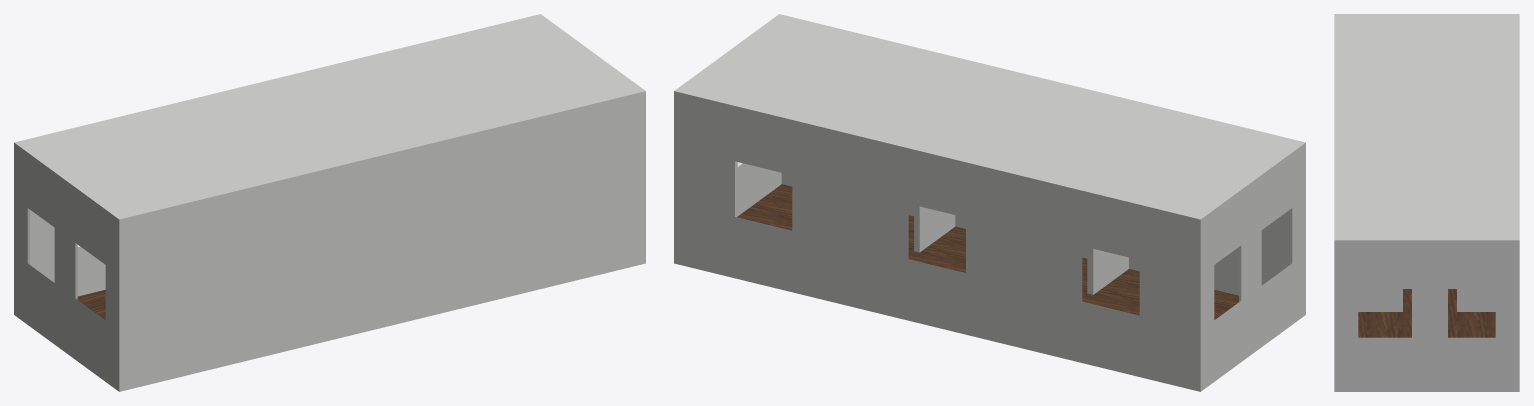
Rendered from Room.gltf.
3 views of the same model, side by side, from view 1: azimuth 30°, elevation 25°; view 2: azimuth 150°, elevation 25°; view 3: azimuth 270°, elevation 25° (orthographic). The views are drawn at different scales.
Parts seen in each view (by area): view 1: Body1 2, Body1 3; view 2: Body1 2, Body1, Body1 3; view 3: Body1 2, Body1, Body1 3.
Part boxes in pixels (x1=…): Body1 2: x1=14, y1=14, x2=645, y2=391; Body1 3: x1=30, y1=210, x2=105, y2=296; Body1 2: x1=674, y1=14, x2=1305, y2=391; Body1: x1=737, y1=184, x2=1238, y2=319; Body1 3: x1=735, y1=161, x2=1128, y2=294; Body1 2: x1=1334, y1=14, x2=1519, y2=391; Body1: x1=1358, y1=289, x2=1495, y2=337; Body1 3: x1=1358, y1=289, x2=1495, y2=311.
Size of what is drawn, in the model's own units: 89.5 by 28 by 31.
Materials: 3 (1 with a texture image).
